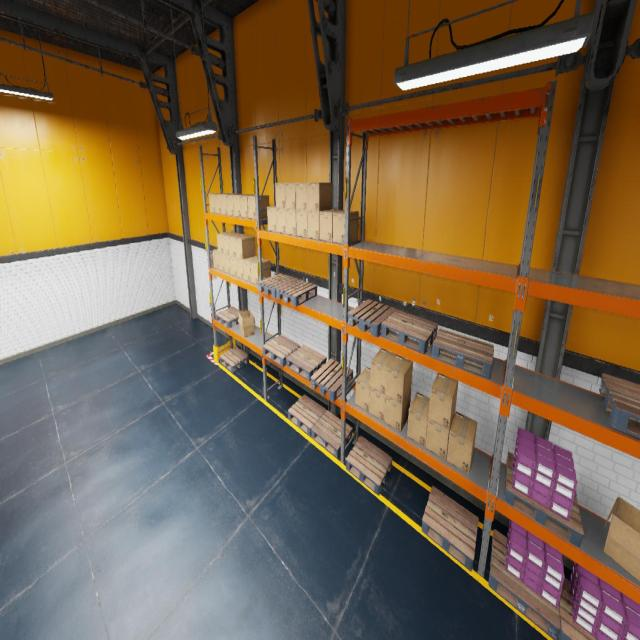box: (604, 497, 640, 581), (447, 411, 477, 474), (428, 372, 458, 430), (426, 412, 454, 460), (386, 354, 412, 404), (407, 392, 430, 447), (370, 348, 396, 395), (384, 389, 411, 432), (332, 210, 358, 243), (319, 209, 344, 242), (307, 182, 332, 211), (355, 367, 371, 412), (370, 387, 386, 422), (250, 258, 271, 284), (247, 195, 269, 219), (235, 235, 256, 260), (243, 256, 263, 282), (233, 194, 253, 217), (238, 310, 255, 337), (222, 233, 241, 255), (228, 234, 246, 257), (217, 231, 235, 253), (220, 194, 238, 215), (226, 193, 242, 216), (308, 210, 320, 240), (240, 195, 255, 218), (214, 193, 230, 214), (296, 210, 308, 237), (209, 194, 225, 214), (296, 182, 307, 210), (285, 183, 296, 209), (286, 209, 296, 235), (276, 183, 286, 208), (276, 208, 286, 233), (267, 206, 276, 232), (236, 258, 244, 279), (230, 256, 237, 277), (223, 254, 230, 274), (213, 249, 219, 270), (218, 252, 224, 272)
pallets: (488, 530, 560, 640), (504, 452, 584, 548), (421, 486, 479, 571), (432, 328, 494, 379), (346, 436, 392, 495), (599, 373, 640, 438), (381, 310, 438, 354), (558, 578, 598, 640), (312, 410, 352, 458), (311, 358, 353, 402), (348, 299, 396, 337), (288, 395, 326, 436), (286, 345, 326, 381), (263, 335, 300, 367), (276, 279, 317, 306), (258, 274, 297, 298), (219, 347, 249, 372), (215, 306, 241, 328)
